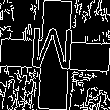M_S: (31, 29, 79, 81)
